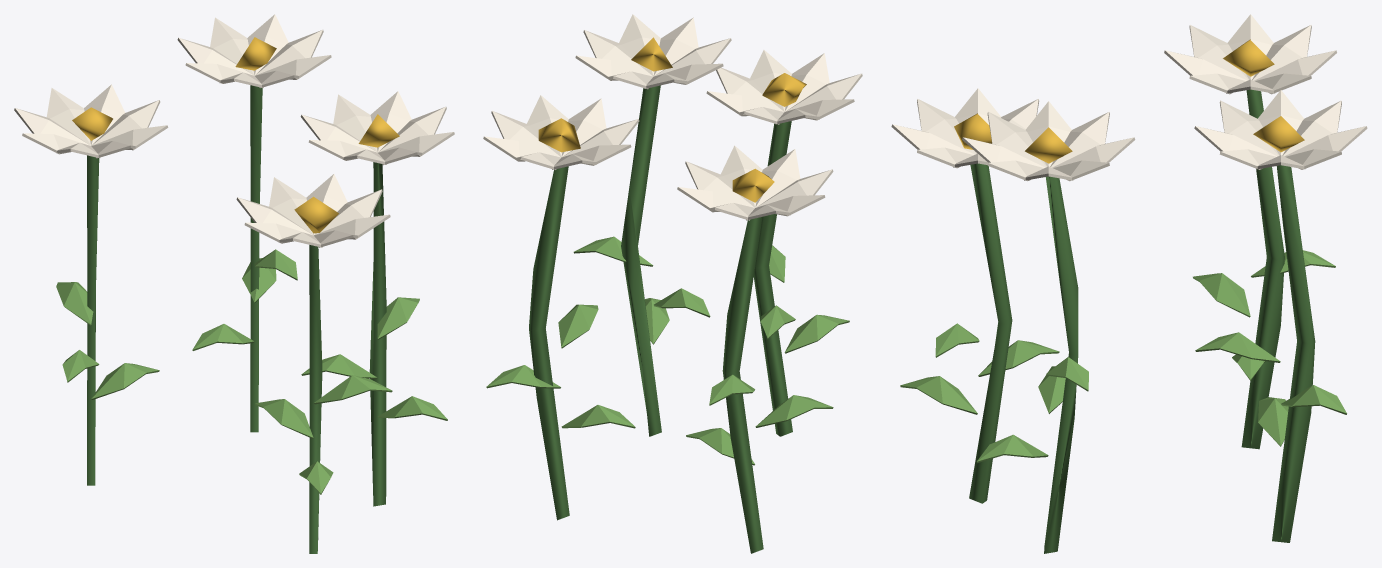
Rendered from flower.daisy-far.glb.
The picture shows the model from 3 angles, left to right: view 1: azimuth 30°, elevation 25°; view 2: azimuth 150°, elevation 25°; view 3: azimuth 270°, elevation 25°; orthographic projection. The views are drawn at different scales.
Visible parts, largest first — view 1: Living stem; view 2: Living stem; view 3: Living stem.
Part boxes in pixels (x1,y1,x2,y2): Living stem: (14,14,454,553); Living stem: (483,14,862,553); Living stem: (891,14,1367,553).
Bounding box in the file's own units: 0.4115 × 0.467 × 0.4715.
